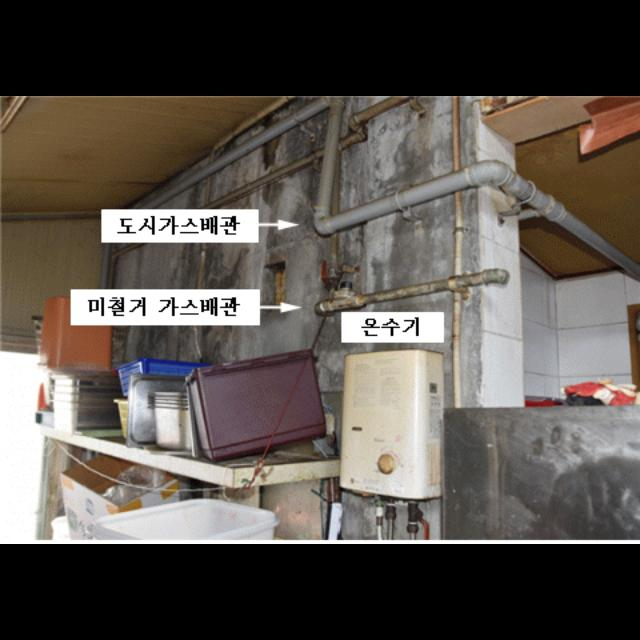Boiler: (319, 333, 453, 542)
